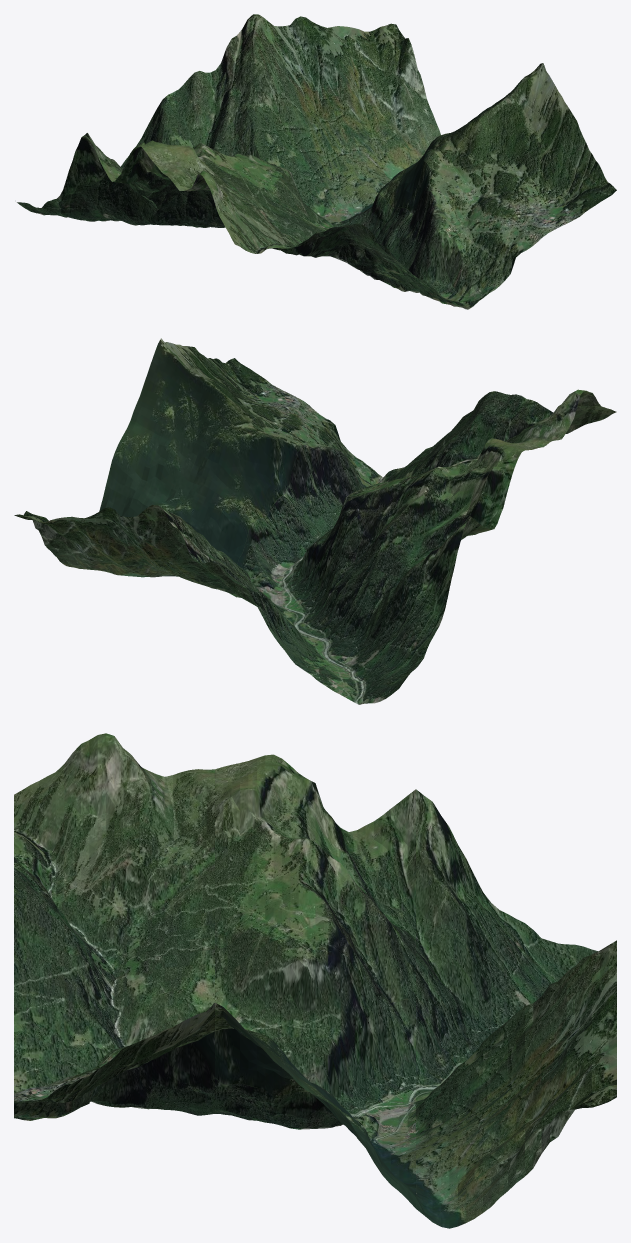
3 renders of one model, top to bottom at view 1: azimuth 30°, elevation 25°; view 2: azimuth 150°, elevation 25°; view 3: azimuth 270°, elevation 25°, orthographic. The views are drawn at different scales.
Parts seen in each view (by area): view 1: Layer 01; view 2: Layer 01; view 3: Layer 01.
Part boxes in pixels (x1,y1,x2,y2): Layer 01: (17, 14, 616, 309); Layer 01: (14, 338, 616, 704); Layer 01: (14, 733, 616, 1228).
Bounding box in the file's own units: 0.402 × 0.187 × 0.402.
1 material, 1 textured.
